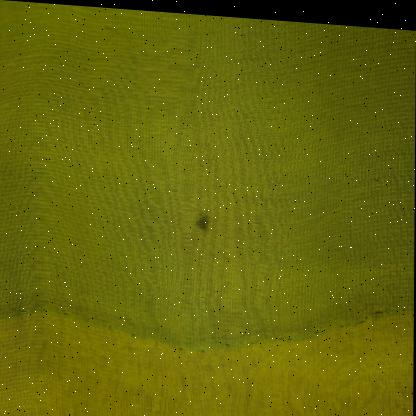spot: (194, 202, 210, 240)
